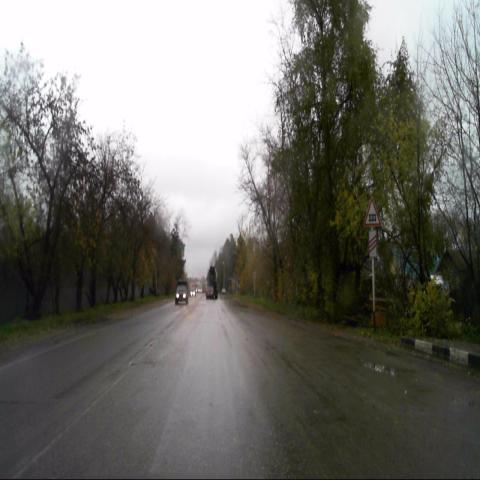1_1: (363, 197, 382, 227)
